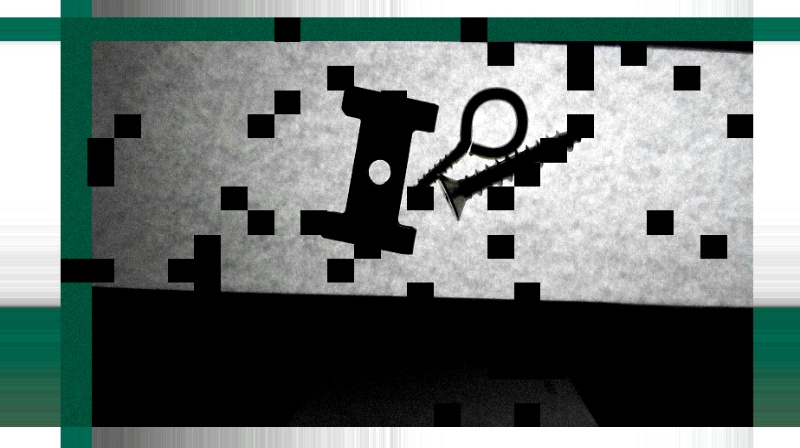O001: (406, 84, 530, 199)
O002: (317, 83, 437, 255)
S001: (432, 124, 589, 220)
